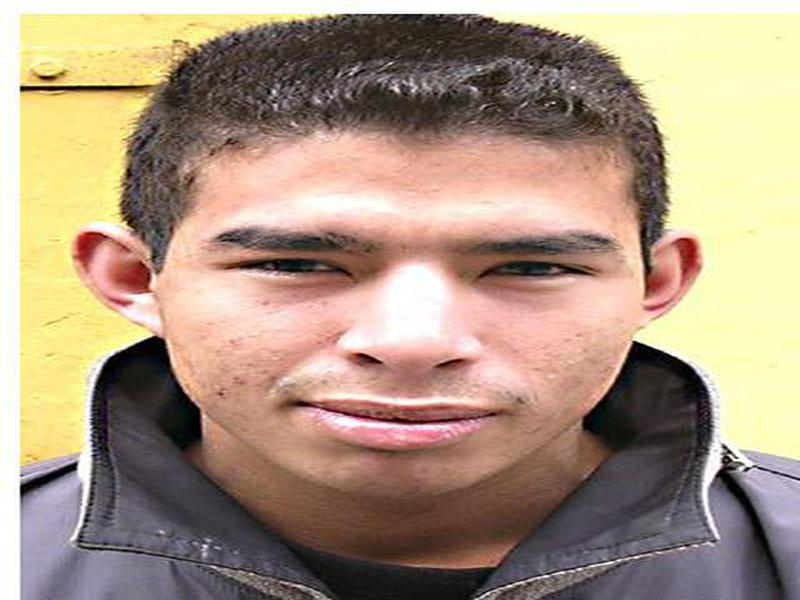without_mask: (163, 125, 636, 512)
